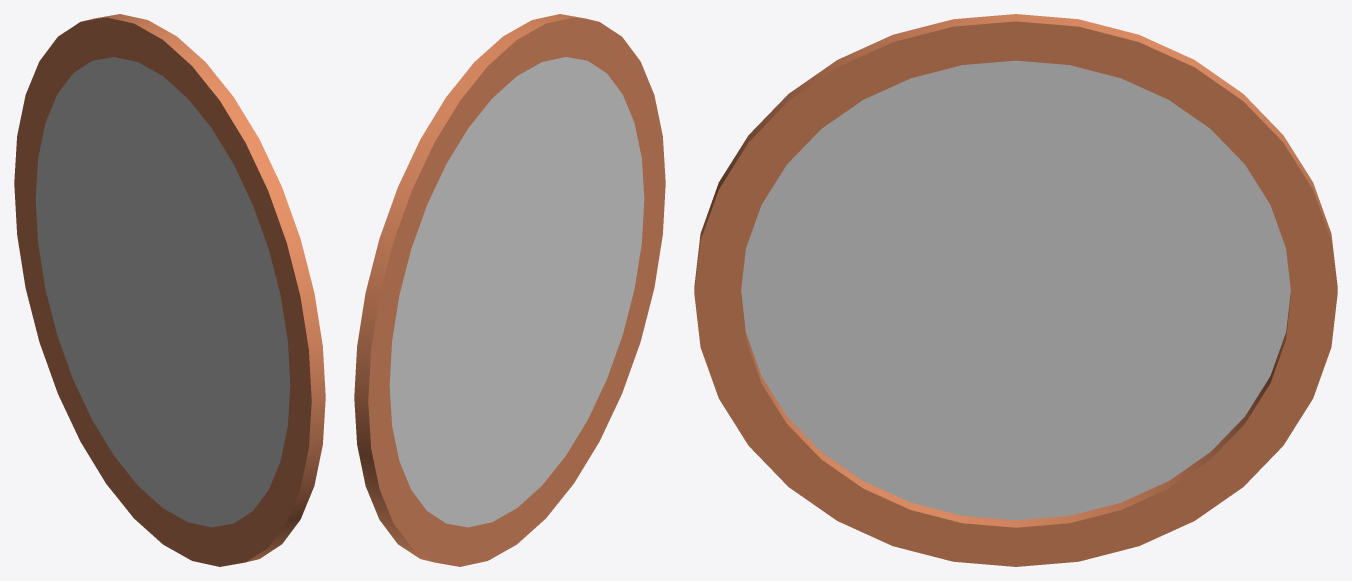
File: Frame5.fbx
3 views of the same model, side by side, from view 1: azimuth 30°, elevation 25°; view 2: azimuth 150°, elevation 25°; view 3: azimuth 270°, elevation 25° (orthographic). The views are drawn at different scales.
Visible parts, largest first — view 1: Frame5; view 2: Frame5; view 3: Frame5.
Boxes of the visible parts, <box> form: Frame5: <box>14,14,325,566</box>; Frame5: <box>354,14,665,566</box>; Frame5: <box>694,14,1337,566</box>.
Bounding box in the file's own units: 1.97 × 1.84 × 0.0535.
